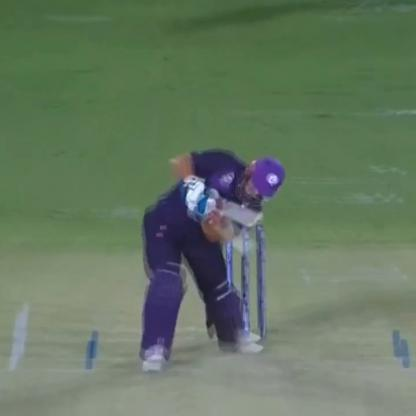bat: (197, 184, 262, 257)
